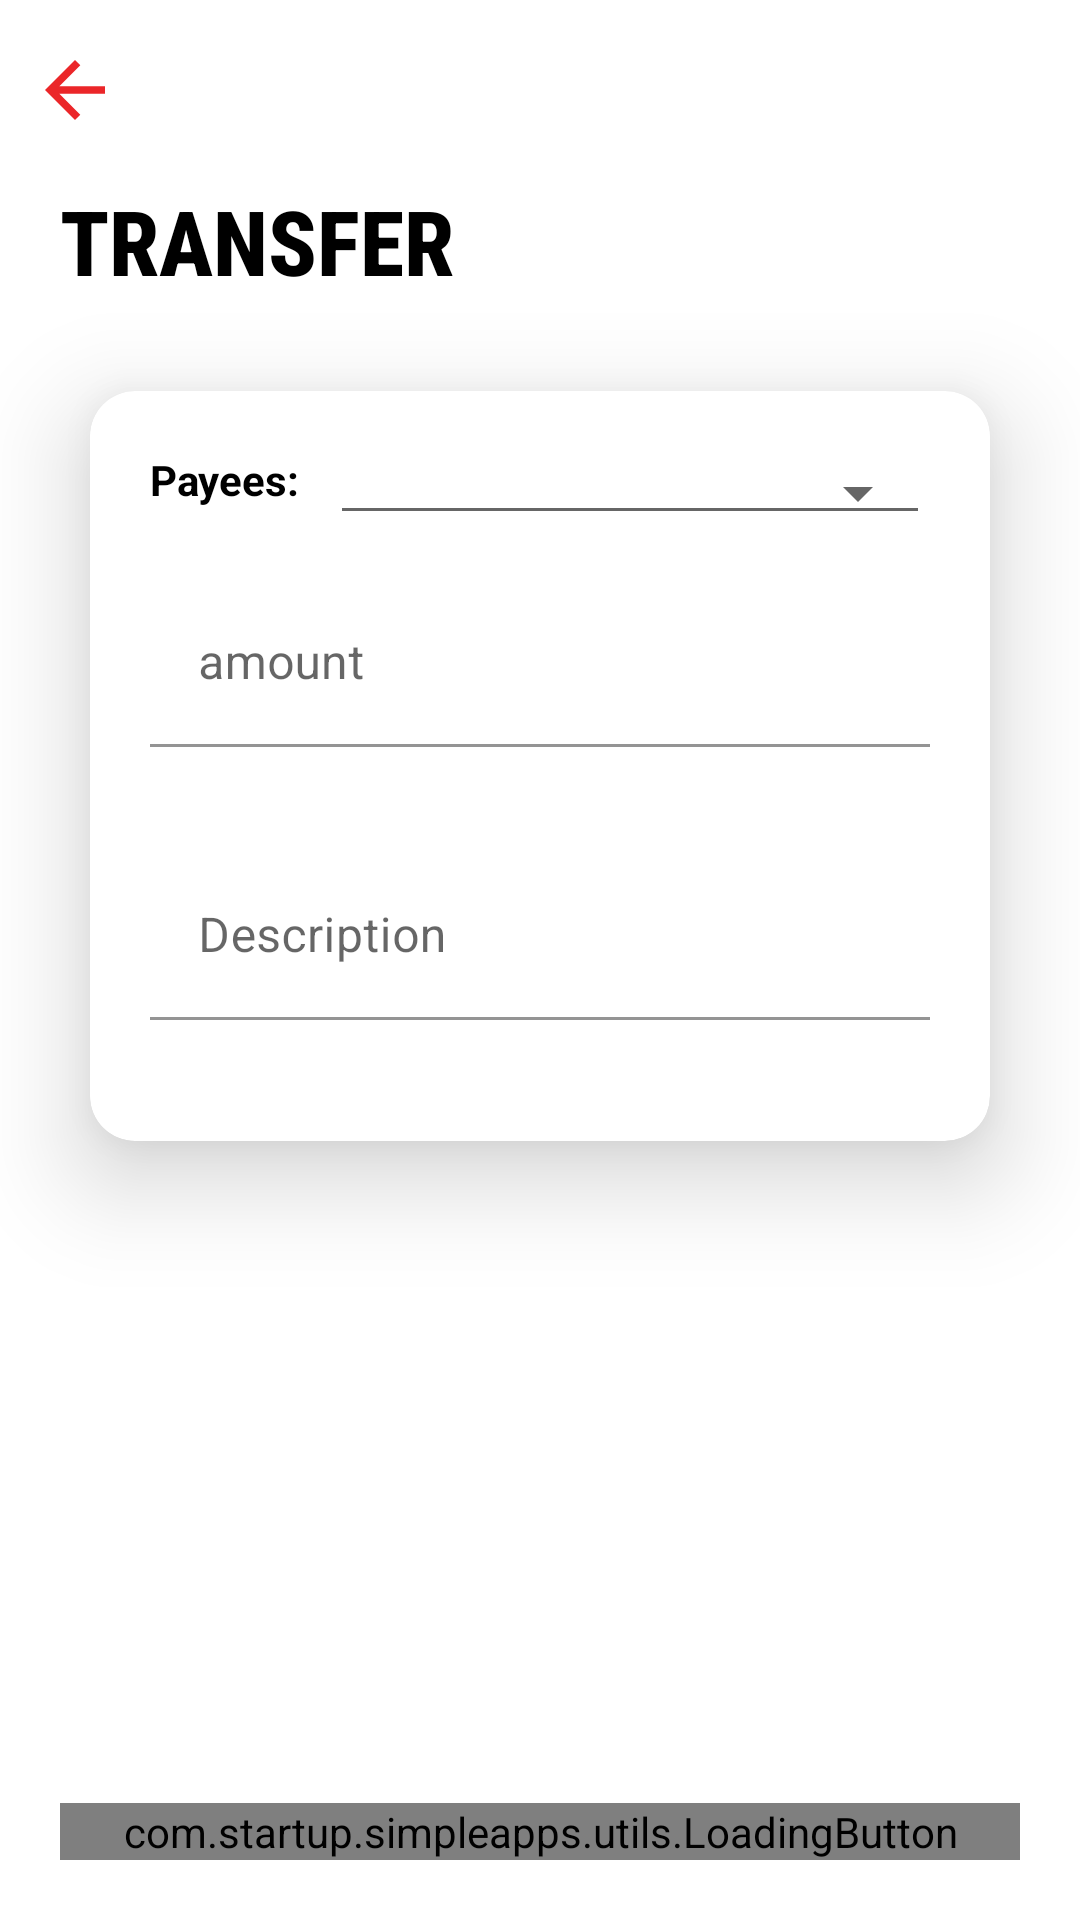

Icons on this 1080*1920 Android screen, each with the point to tap as [x,y]:
arrow back: [75,90]
